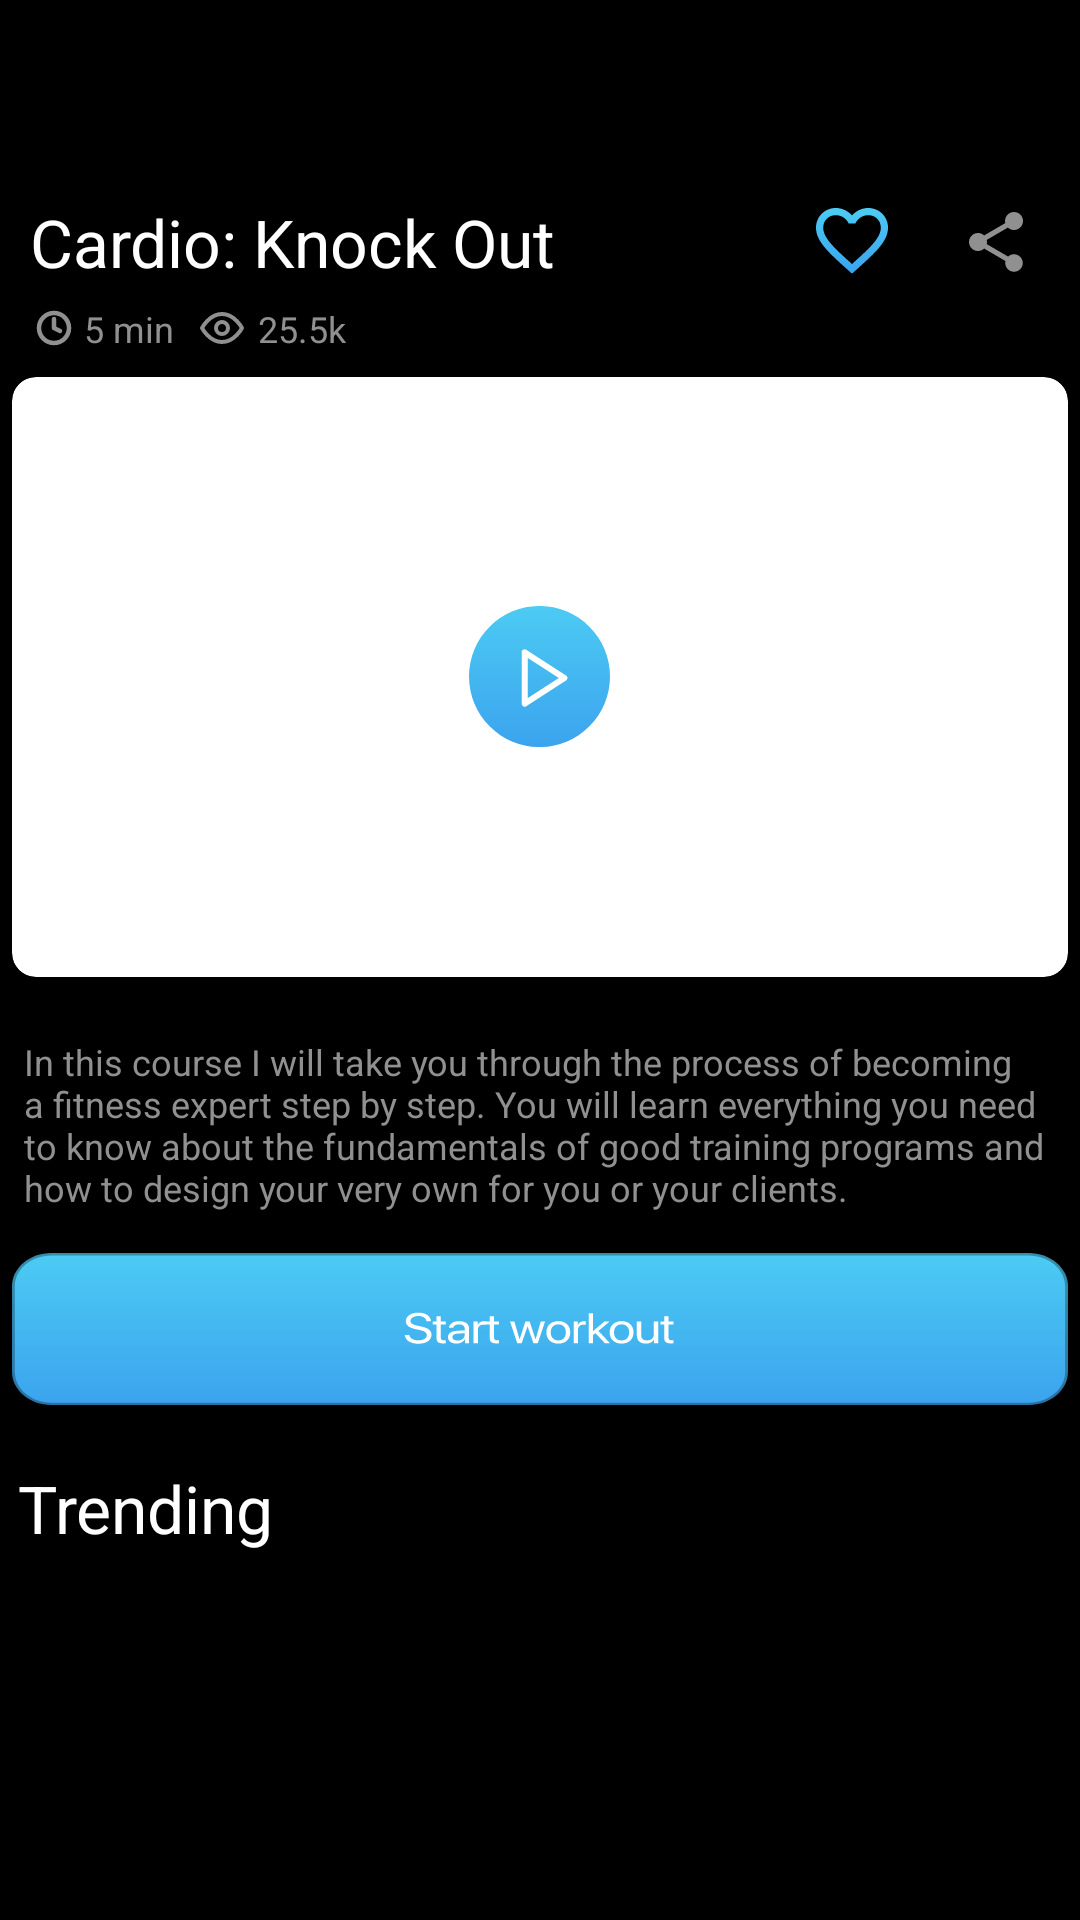

Point at icon controls on the screen. Image size 1080px×1920px, points as (x,y).
favourite: (852,241)
playicon: (539,676)
share: (996,242)
